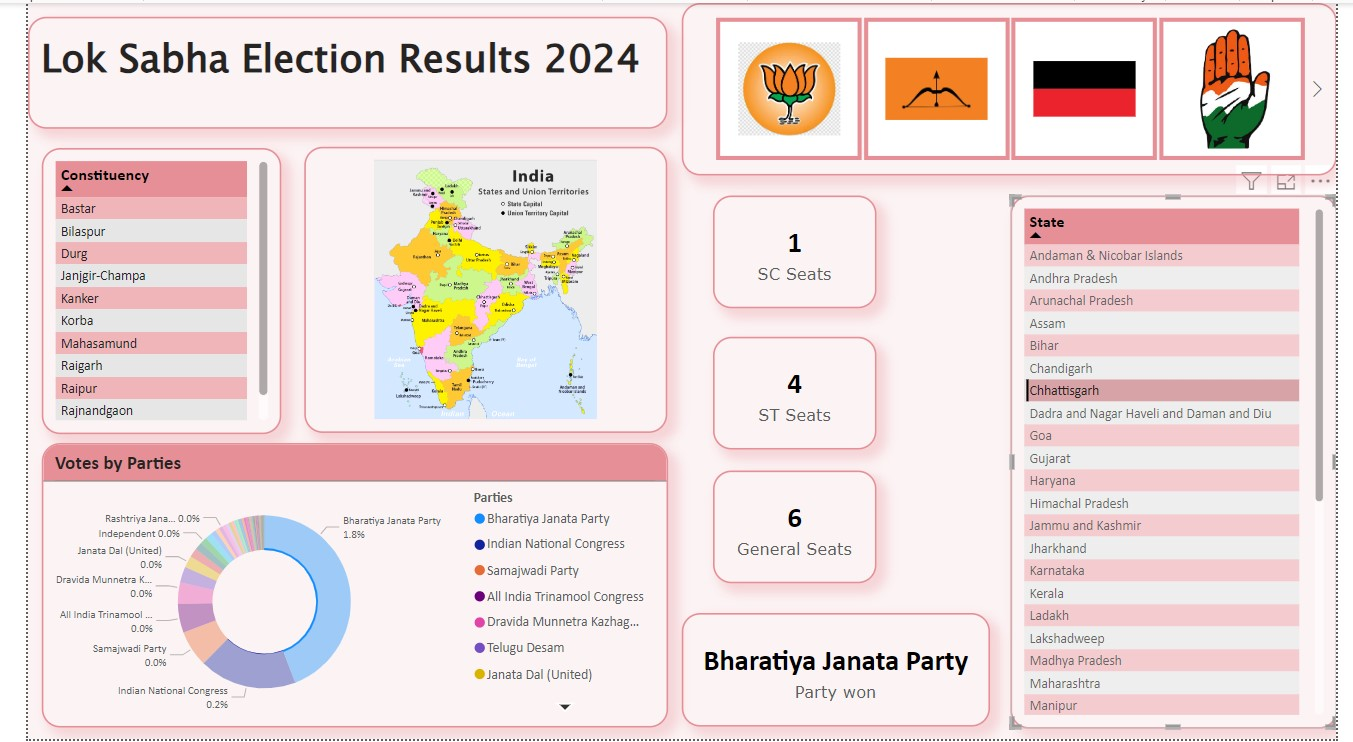

This screenshot's page, from the dashboard's own definition file:
{"tool":"powerbi","page":{"name":"Page 1","canvas":[1280,720],"ordinal":0},"visuals":[{"type":"tableEx","fields":{"Values":["Sheet1.State"]},"box":[960.6,188,319.7,521.4],"z":0},{"type":"card","fields":{"Values":["Min(Sheet1.Leading Party)"]},"box":[640,597.1,301.4,111.4],"z":1},{"type":"tableEx","fields":{"Values":["Sheet1.Constituency"]},"box":[13.7,141.3,234.6,279.9],"z":2},{"type":"donutChart","title":"Votes by Parties","fields":{"Category":["Sheet1.Leading Party"],"Y":["all_measures.sum_votes"]},"box":[12.9,430,612.9,278.6],"z":3},{"type":"card","fields":{"Values":["all_measures.st_seats"]},"box":[669.6,326.6,160,110],"z":4},{"type":"card","fields":{"Values":["all_measures.gen_seats"]},"box":[669.6,456.9,160,110],"z":5},{"type":"card","fields":{"Values":["all_measures.sc_seats"]},"box":[669.6,188,160,110],"z":6},{"type":"slicer","fields":{"Values":["flag.Image"]},"box":[639.5,0,640.8,168.8],"z":8},{"type":"textbox","box":[0,13.7,625.7,109.8],"z":9},{"type":"image","box":[270,141.1,355.6,280],"z":10}]}

Visuals, with their boxes in screenshot pixels (x1, y1, x2, y2), scaled from the page's 1280x720 canvas onto the 1353x742 screenshot:
tableEx - Sheet1.State: select_region(1015, 194, 1352, 731)
card - Min(Sheet1.Leading Party): select_region(676, 615, 995, 730)
tableEx - Sheet1.Constituency: select_region(14, 146, 262, 434)
"Votes by Parties" donutChart: select_region(14, 443, 661, 730)
card - all_measures.st_seats: select_region(708, 337, 877, 450)
card - all_measures.gen_seats: select_region(708, 471, 877, 584)
card - all_measures.sc_seats: select_region(708, 194, 877, 307)
slicer - flag.Image: select_region(676, 0, 1352, 174)
textbox: select_region(0, 14, 661, 127)
image: select_region(285, 145, 661, 434)
